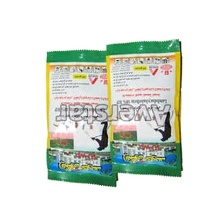insecticide: (43, 47, 128, 190), (103, 36, 186, 182)
